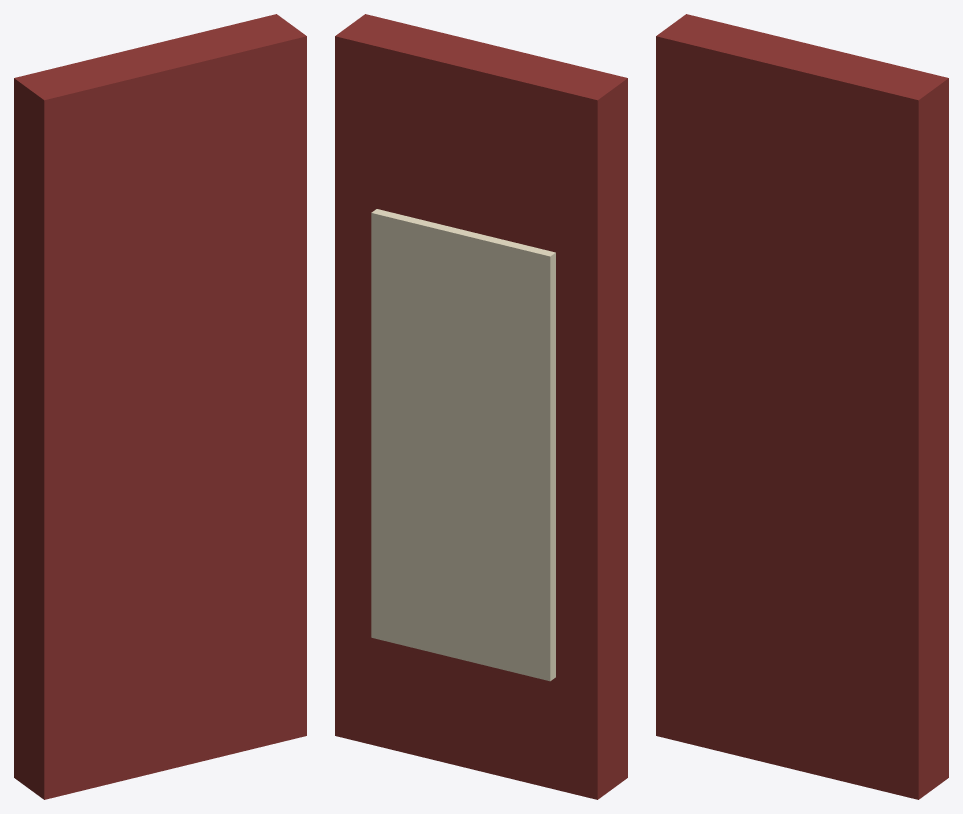
File: tablet.glb
3 views of the same model, side by side, from view 1: azimuth 30°, elevation 25°; view 2: azimuth 150°, elevation 25°; view 3: azimuth 330°, elevation 25° (orthographic).
Parts seen in each view (by area): view 1: SM_Tablet; view 2: SM_Tablet; view 3: SM_Tablet.
Part boxes in pixels (x1,y1,x2,y2): SM_Tablet: [14, 14, 306, 799]; SM_Tablet: [335, 14, 627, 799]; SM_Tablet: [656, 14, 948, 799].
Bounding box in the file's own units: 0.11 × 0.28 × 0.026.
